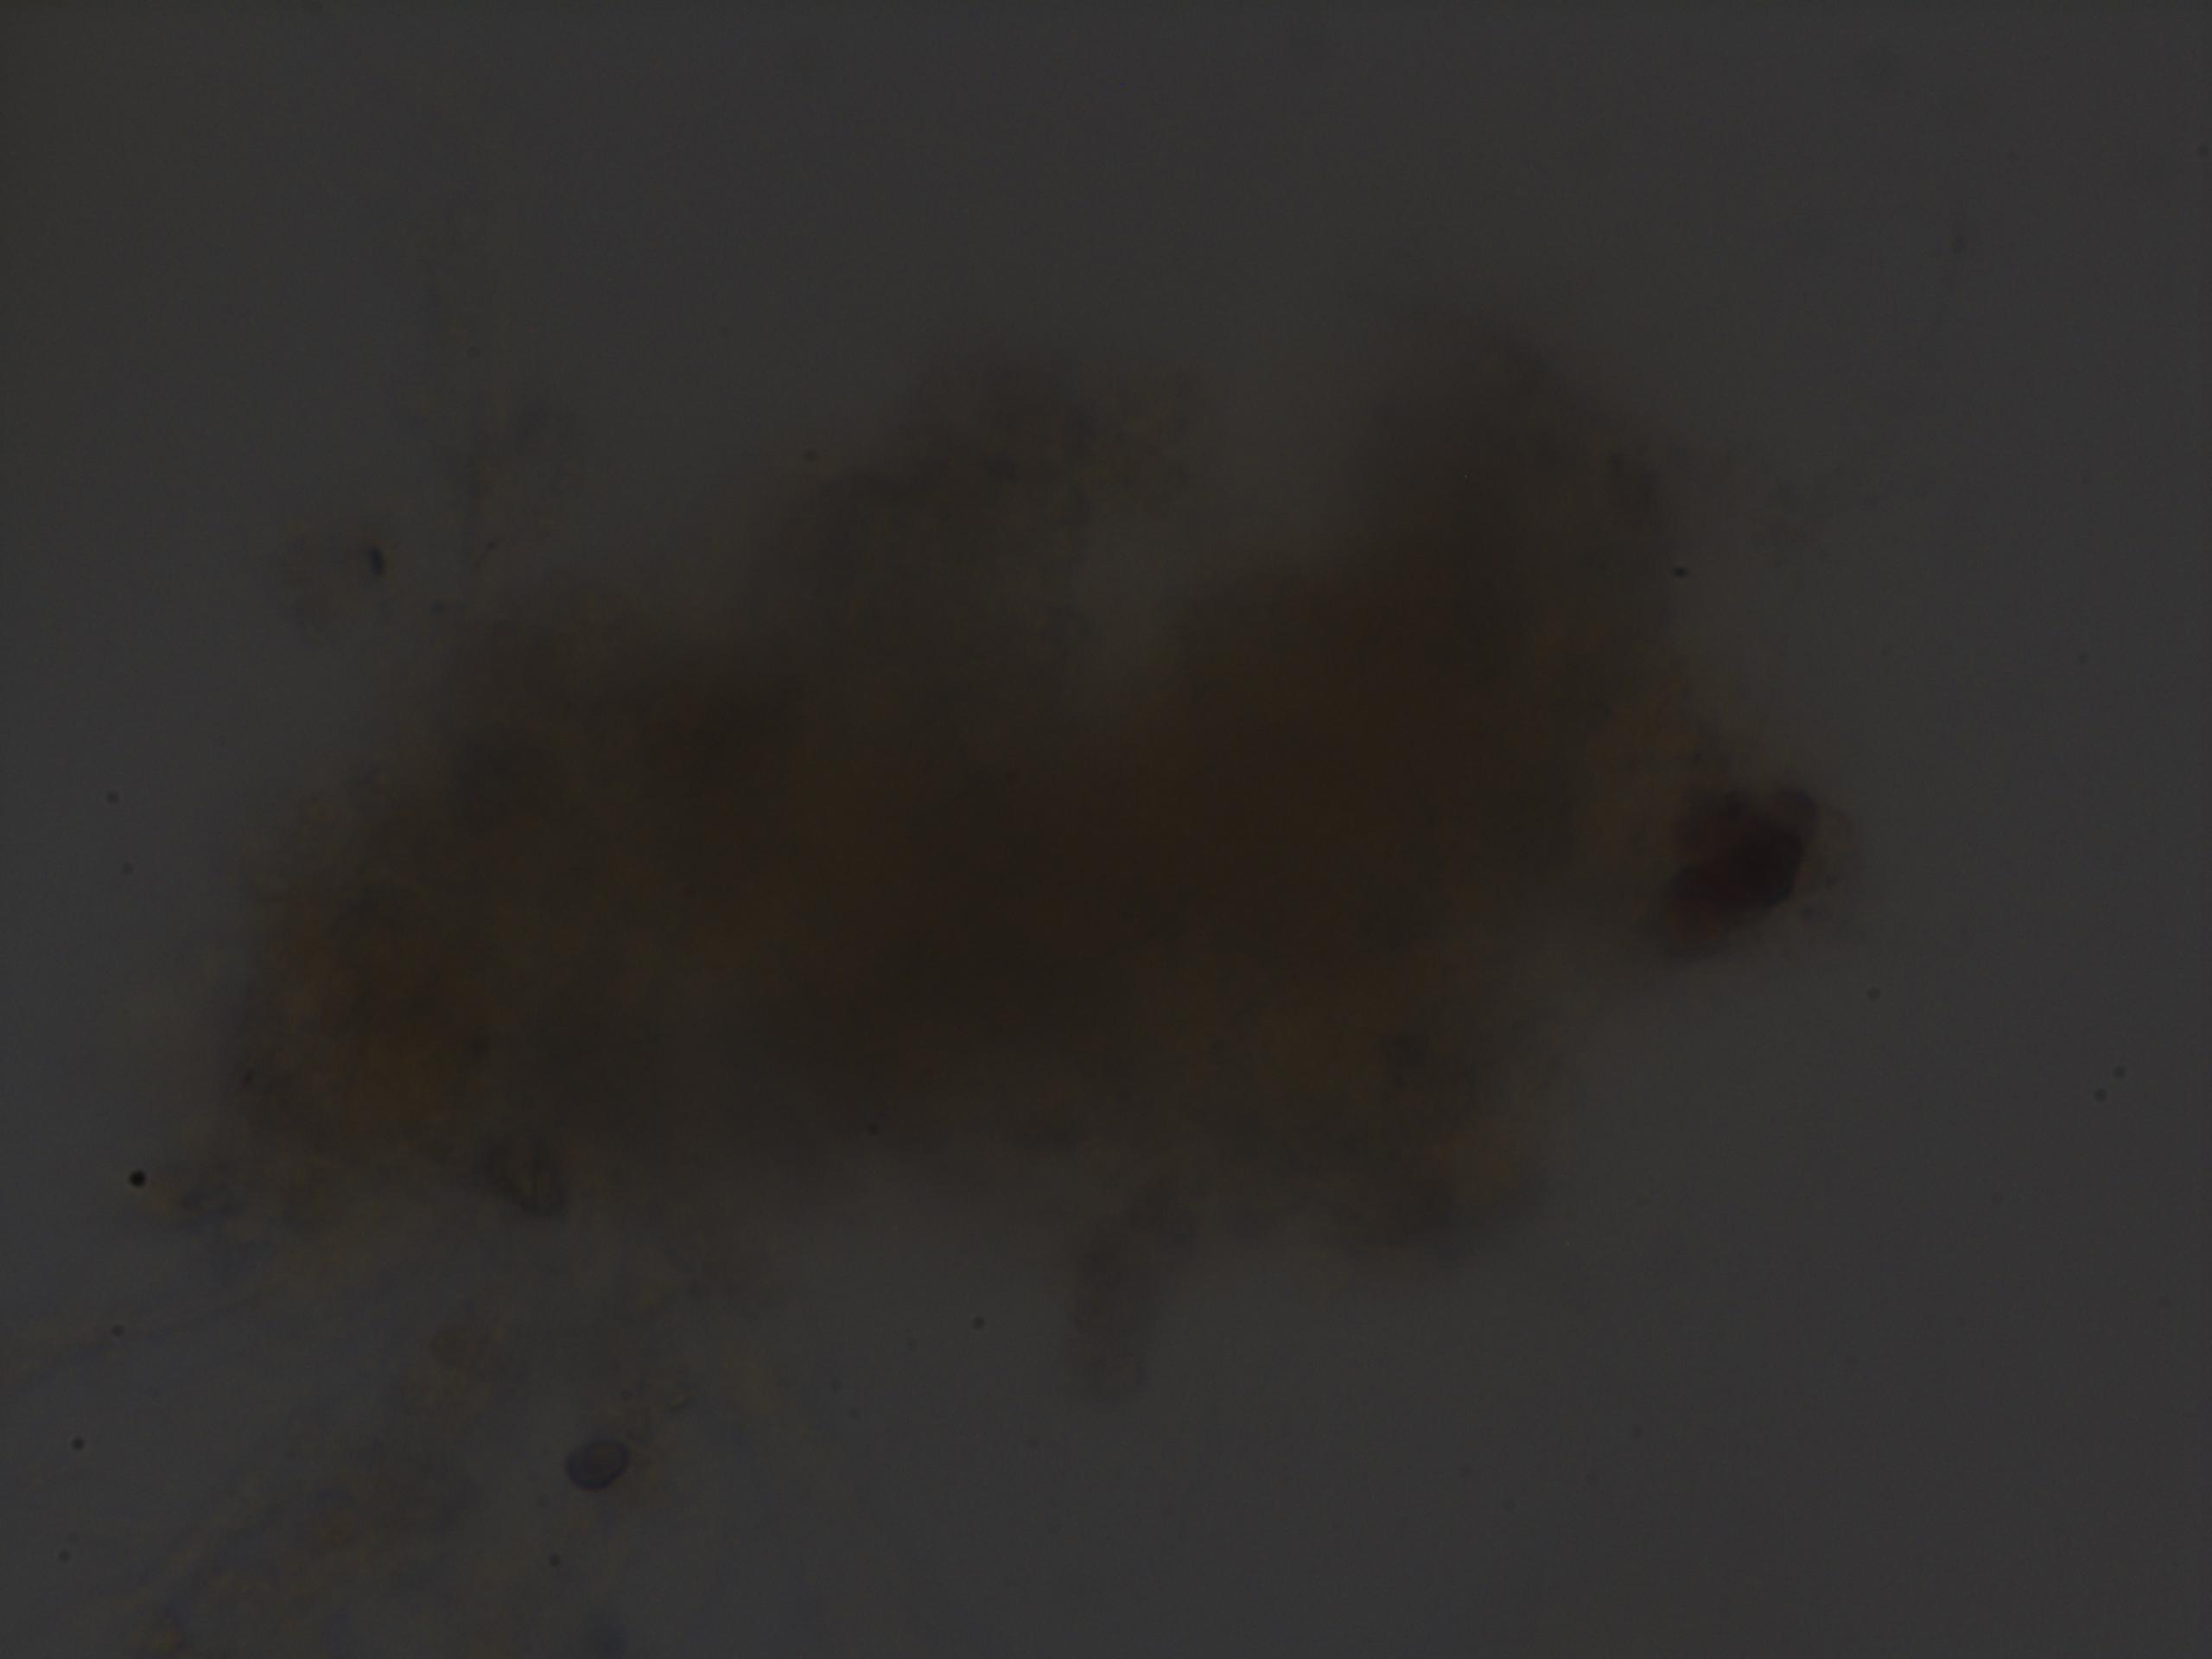spherical_floc: (181, 368, 1745, 1281)
